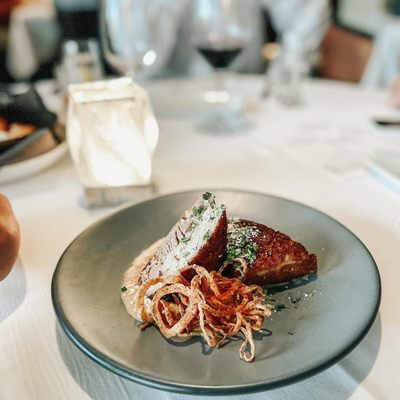pizza: (65, 76, 160, 196)
